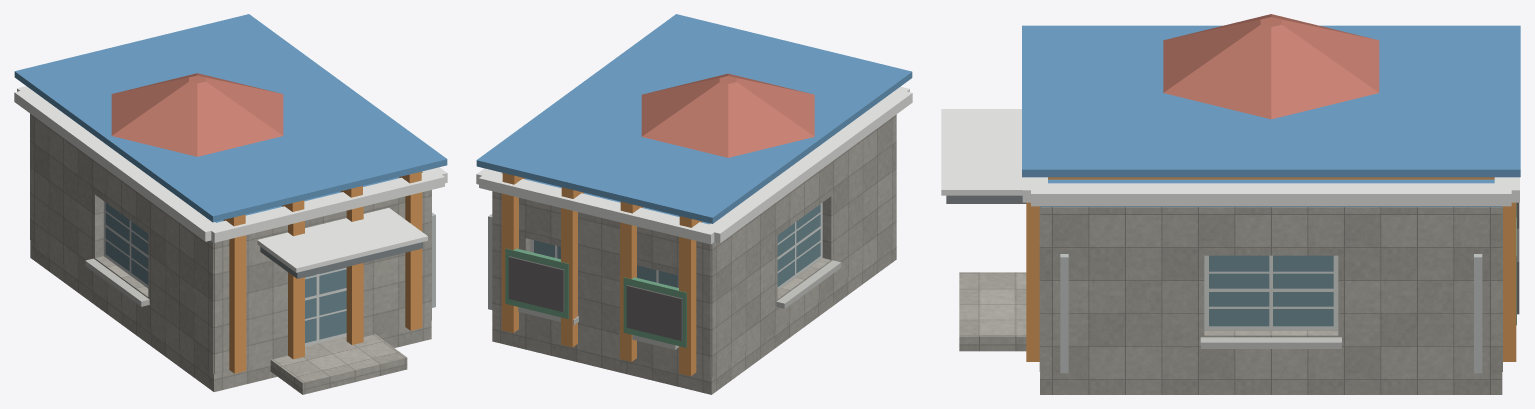
The picture shows the model from 3 angles, left to right: view 1: azimuth 30°, elevation 25°; view 2: azimuth 150°, elevation 25°; view 3: azimuth 270°, elevation 25°; orthographic projection. The views are drawn at different scales.
Visible parts, largest first — view 1: gate__canopy, gate__stone, gate__cap, gate__terracotta, gate__gateorange, gate__threshold-front, gate__glass, gate__frame, gate__entrance, gate__sill, gate__steel; view 2: gate__stone, gate__canopy, gate__terracotta, gate__cap, gate__gateorange, gate__darkframe, gate__glass, gate__fencegreen, gate__sill, gate__frame, gate__steel; view 3: gate__stone, gate__canopy, gate__cap, gate__terracotta, gate__glass, gate__gateorange, gate__threshold-front, gate__frame, gate__steel, gate__sill, gate__entrance.
Part boxes in pixels (<box>): gate__canopy: <box>14,14,447,242</box>; gate__stone: <box>30,113,431,391</box>; gate__cap: <box>14,86,447,272</box>; gate__terracotta: <box>111,73,283,156</box>; gate__gateorange: <box>223,171,422,373</box>; gate__threshold-front: <box>270,334,407,394</box>; gate__glass: <box>105,203,346,342</box>; gate__frame: <box>104,201,346,346</box>; gate__entrance: <box>260,242,422,278</box>; gate__sill: <box>85,258,149,306</box>; gate__steel: <box>432,212,435,307</box>; gate__stone: <box>492,114,896,394</box>; gate__canopy: <box>476,14,912,244</box>; gate__terracotta: <box>641,73,814,157</box>; gate__cap: <box>476,86,912,244</box>; gate__gateorange: <box>501,173,702,376</box>; gate__darkframe: <box>508,256,682,340</box>; gate__glass: <box>534,204,820,287</box>; gate__fencegreen: <box>505,248,686,347</box>; gate__sill: <box>518,260,841,349</box>; gate__frame: <box>531,202,822,290</box>; gate__steel: <box>488,214,492,309</box>; gate__stone: <box>1039,206,1502,394</box>; gate__canopy: <box>1022,25,1520,206</box>; gate__cap: <box>941,109,1519,206</box>; gate__terracotta: <box>1163,14,1379,119</box>; gate__glass: <box>1209,255,1333,326</box>; gate__gateorange: <box>1026,177,1516,361</box>; gate__threshold-front: <box>959,272,1026,351</box>; gate__frame: <box>1204,255,1338,330</box>; gate__steel: <box>1060,254,1482,373</box>; gate__sill: <box>1200,337,1341,348</box>; gate__entrance: <box>946,195,1026,203</box>.
Size of the model in its own units: 5.78 by 5.18 by 9.53.
13 materials, 1 textured.
